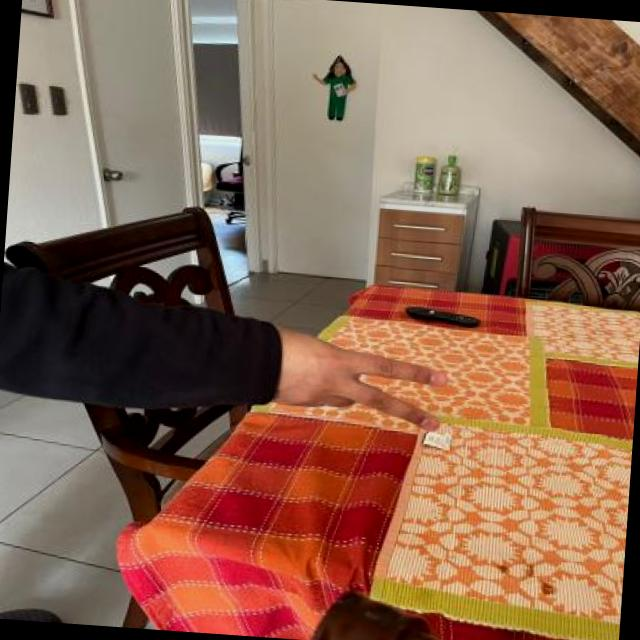H: (241, 320, 454, 434)
